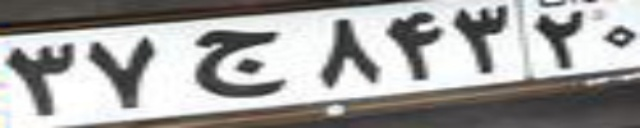0: (601, 23, 637, 49)
2: (534, 9, 582, 69)
3: (4, 42, 79, 115), (453, 4, 507, 73)
4: (388, 11, 443, 80)
7: (87, 36, 161, 108)
8: (320, 17, 379, 87)
jim: (192, 28, 287, 98)
